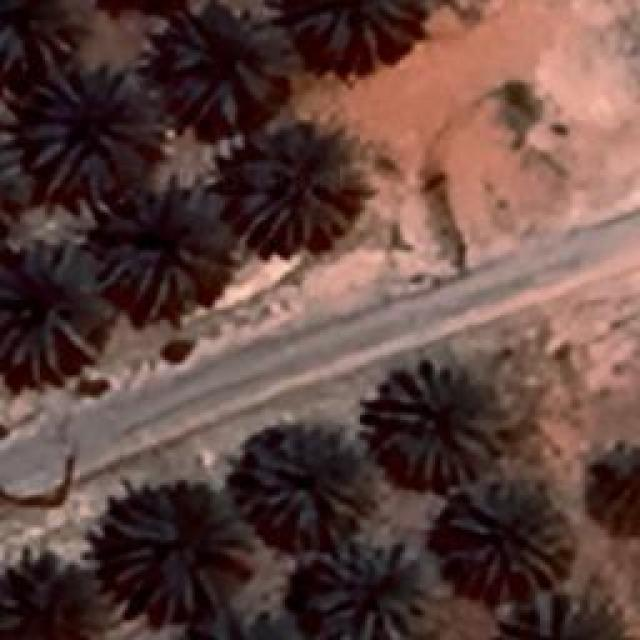PalmTree: (133, 34, 611, 489), (58, 97, 246, 623), (362, 360, 508, 488), (107, 487, 250, 615), (228, 128, 362, 255), (235, 422, 363, 536), (442, 480, 570, 590), (0, 250, 102, 380), (308, 534, 428, 638), (165, 9, 273, 122), (19, 65, 122, 180), (98, 190, 198, 305), (288, 0, 421, 72), (1, 562, 104, 640), (490, 585, 630, 640), (0, 0, 75, 60), (0, 128, 26, 241), (0, 127, 17, 240)
